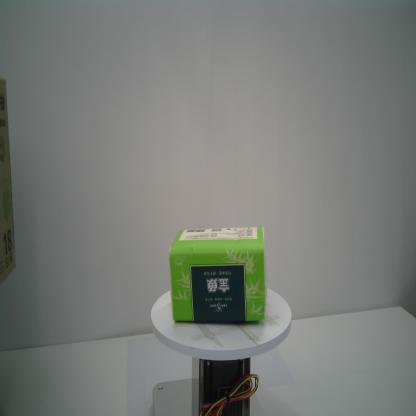Tissue: (169, 226, 268, 324)
